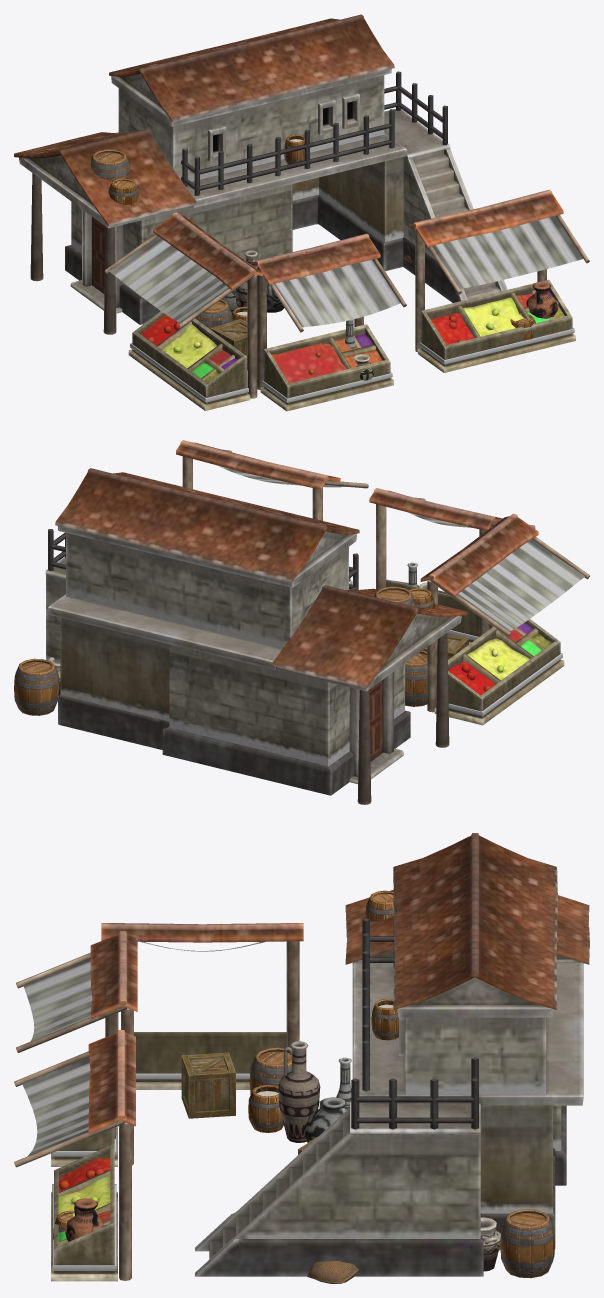
File: 51-market.glb
The picture shows the model from 3 angles, top to bottom: view 1: azimuth 30°, elevation 25°; view 2: azimuth 150°, elevation 25°; view 3: azimuth 270°, elevation 25°; orthographic projection. The views are drawn at different scales.
Size of the model in its own units: 8.85 by 4.85 by 8.91.
7 materials, 5 textured.
